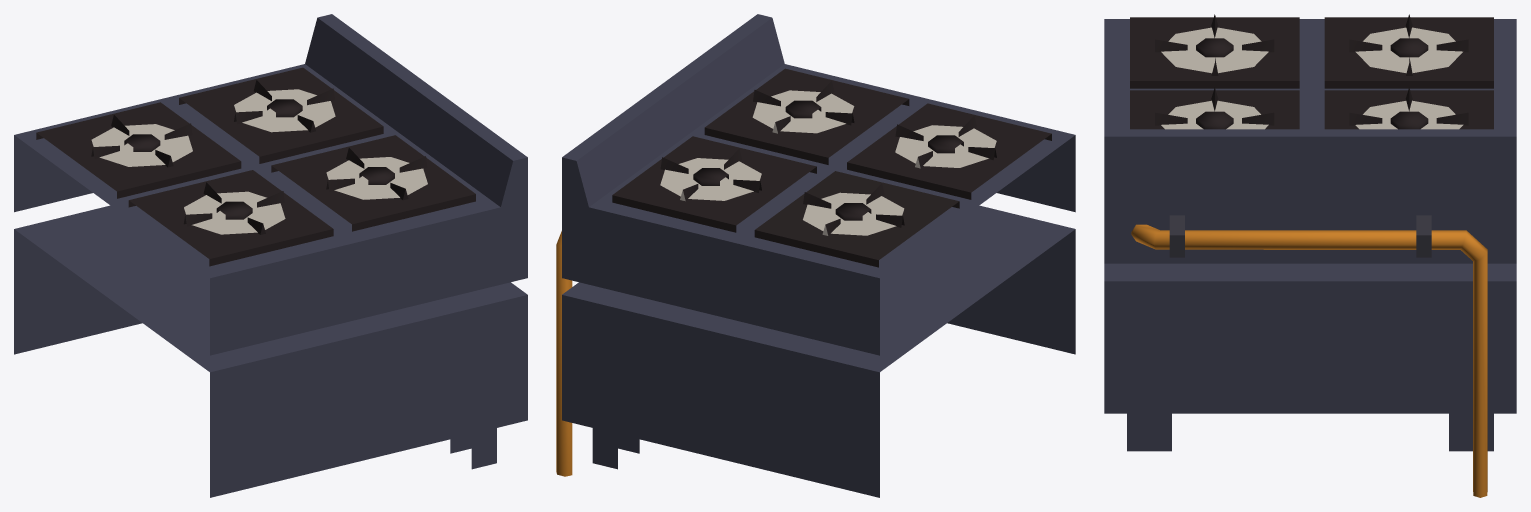
Rendered from interior_B_012.fbx.
3 renders of one model, left to right at view 1: azimuth 30°, elevation 25°; view 2: azimuth 150°, elevation 25°; view 3: azimuth 270°, elevation 25°, orthographic. The views are drawn at different scales.
Visible parts, largest first — view 1: interior_B_012; view 2: interior_B_012; view 3: interior_B_012.
Boxes of the visible parts, <box> form: interior_B_012: <box>14,14,527,497</box>; interior_B_012: <box>556,14,1075,497</box>; interior_B_012: <box>1104,14,1516,497</box>.
Size of the model in its own units: 101 by 92.62 by 99.01.
